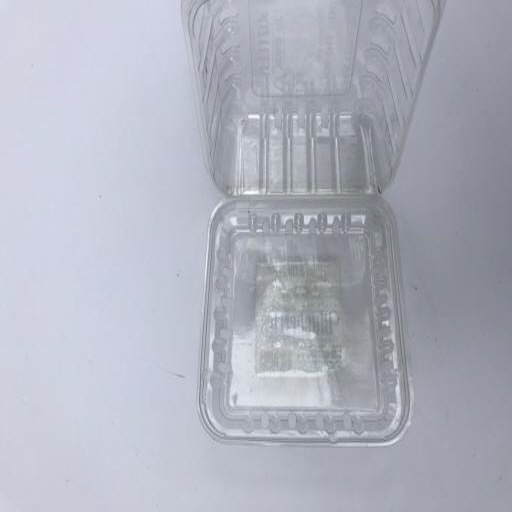Plastic_4: (176, 1, 444, 444)
